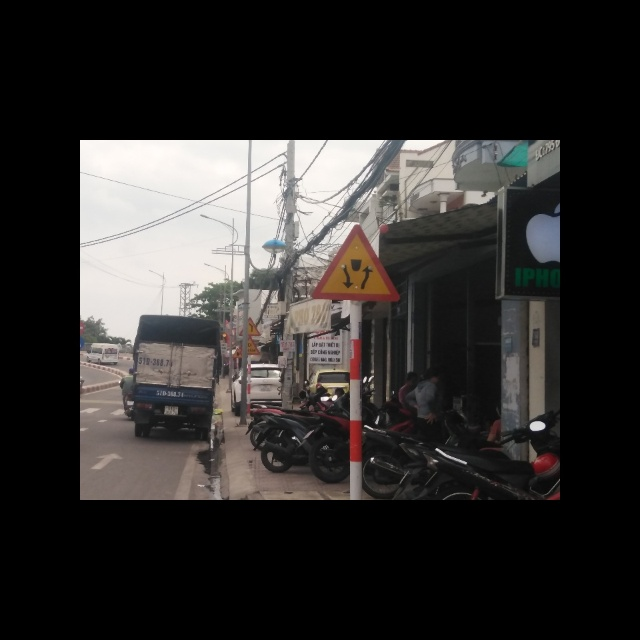Đường đôi: (310, 225, 400, 300)
